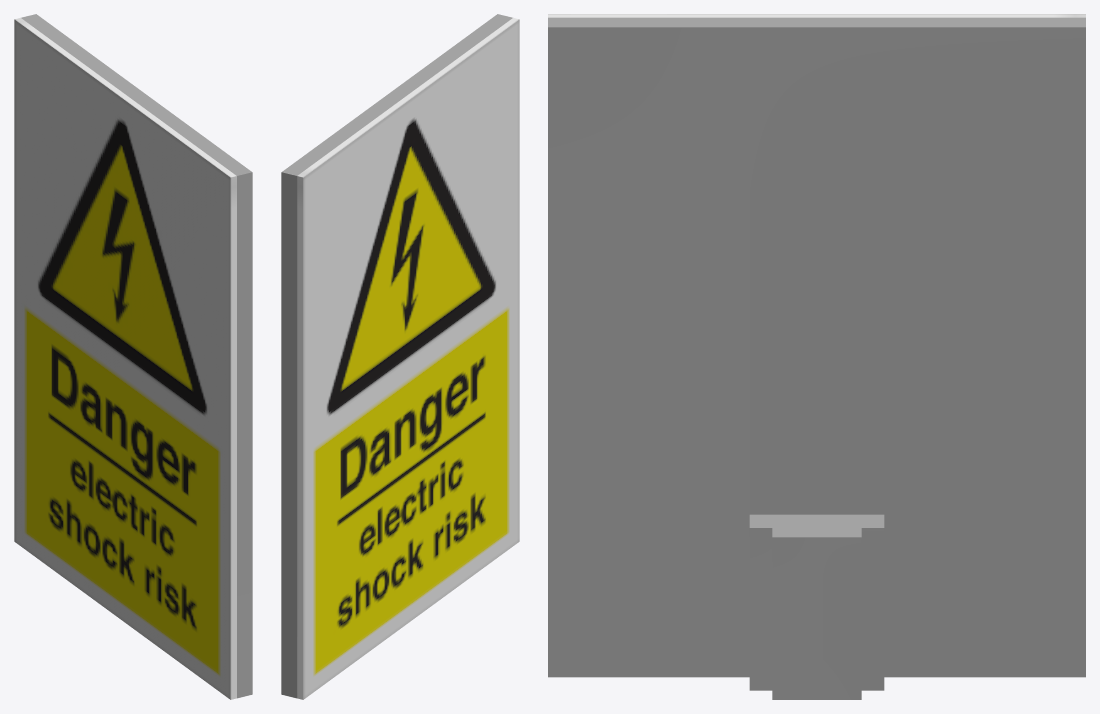
File: electric_shock_risk_small.obj
3 renders of one model, left to right at view 1: azimuth 30°, elevation 25°; view 2: azimuth 150°, elevation 25°; view 3: azimuth 270°, elevation 25°, orthographic. The views are drawn at different scales.
Visible parts, largest first — view 1: cube; view 2: cube; view 3: cube.
Boxes of the visible parts, box(x1,y1,x2,y2) form: cube: box(14, 14, 252, 699); cube: box(281, 14, 519, 699); cube: box(548, 14, 1085, 699).
Bounding box in the file's own units: 0.0594 × 0.5 × 0.375.
Materials: 2 (2 with a texture image).
